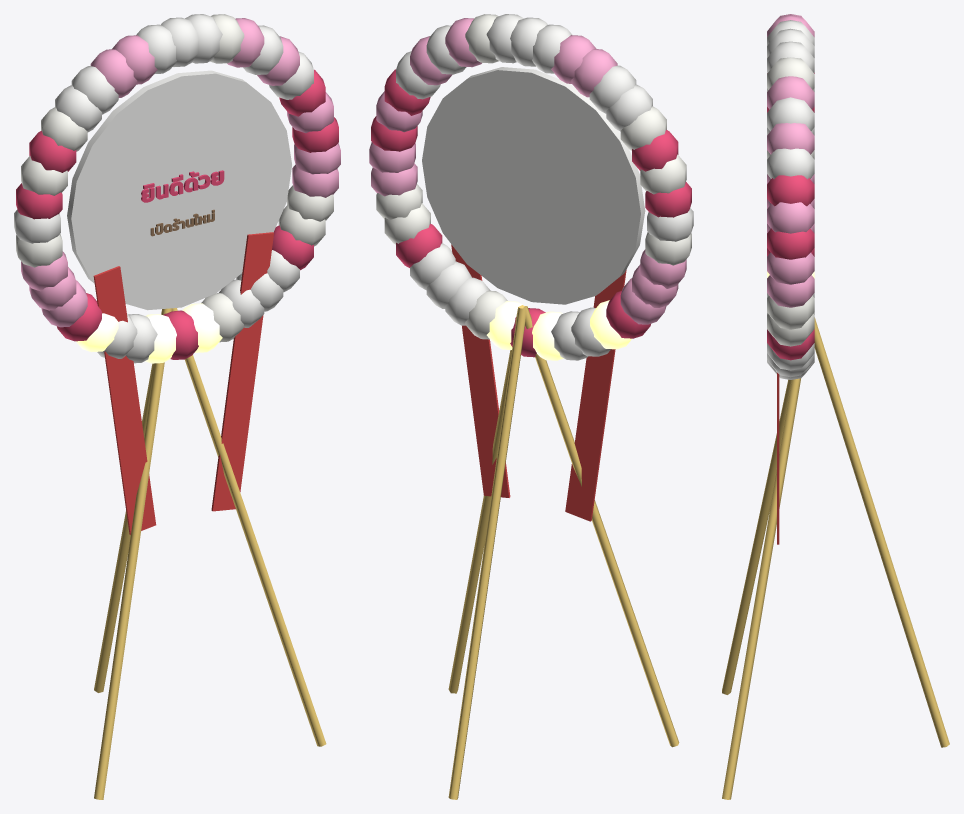
The model's file is SM_OpeningWreath.fbx.
3 renders of one model, left to right at view 1: azimuth 30°, elevation 25°; view 2: azimuth 150°, elevation 25°; view 3: azimuth 270°, elevation 25°, orthographic.
Parts seen in each view (by area): view 1: SM_OpeningWreath; view 2: SM_OpeningWreath; view 3: SM_OpeningWreath.
Boxes of the visible parts, <box> form: SM_OpeningWreath: <box>14,14,340,799</box>; SM_OpeningWreath: <box>369,14,693,799</box>; SM_OpeningWreath: <box>722,14,949,799</box>.
Bounding box in the file's own units: 0.8741 × 1.89 × 0.5463.
